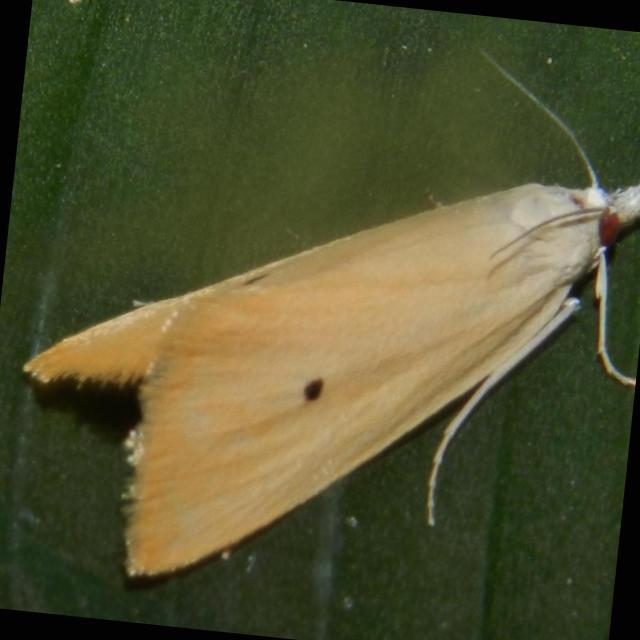stem borer: (24, 54, 639, 577)
